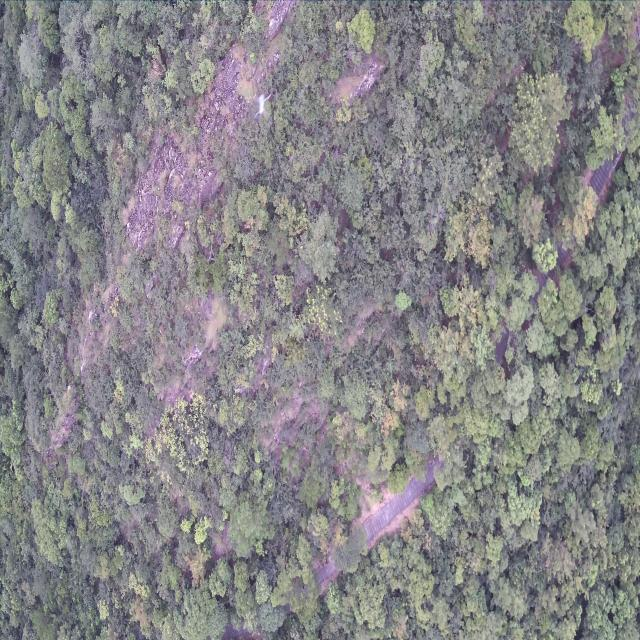UAV: (251, 90, 274, 122)
